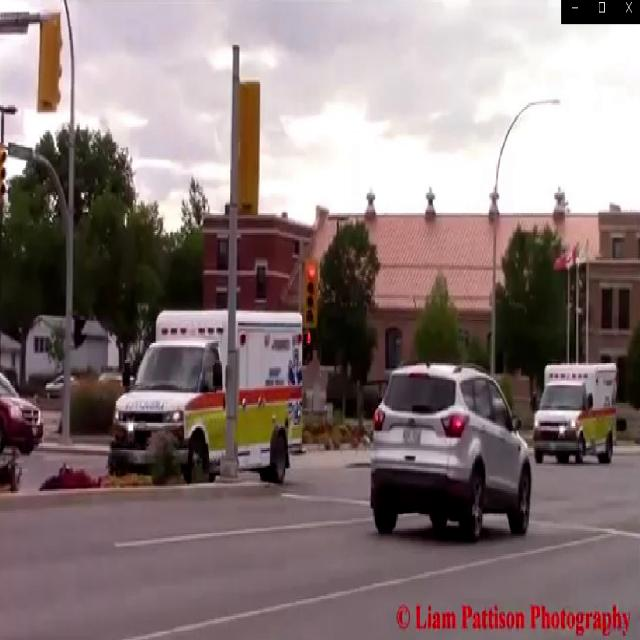emergency: (112, 305, 305, 488), (531, 362, 620, 471)
